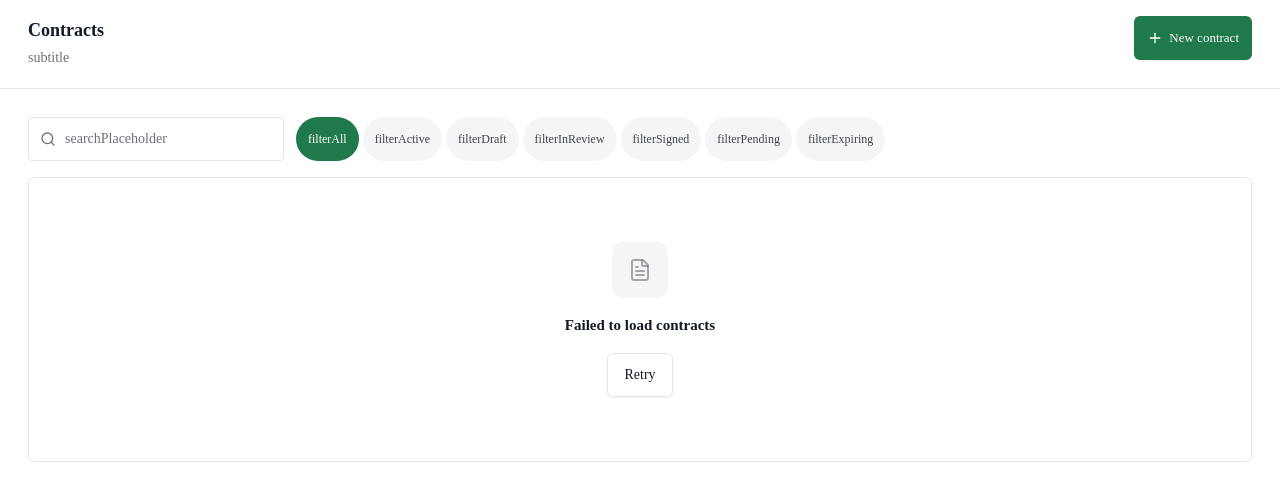
Test: ContractsPage responsive contract representations › shows a retryable error instead of the ordinary empty state after a failed request
Expected: the message shows "Failed to load contracts", [565,317,715,333]
Click the button "Retry".
click(640, 374)  # box [607,352,672,396]
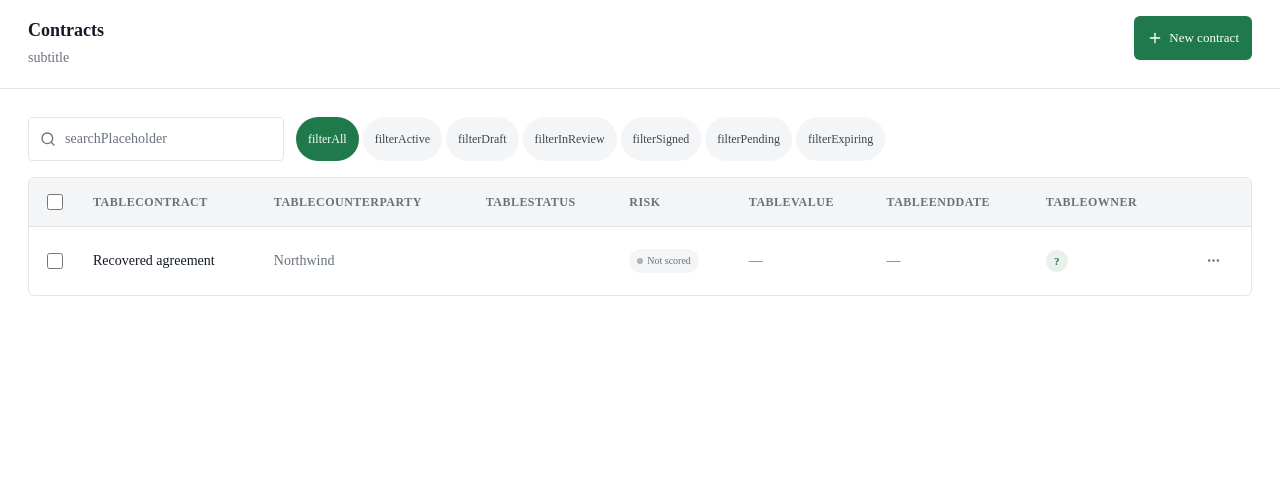
Result: the number of links "Recovered agreement" is 2
